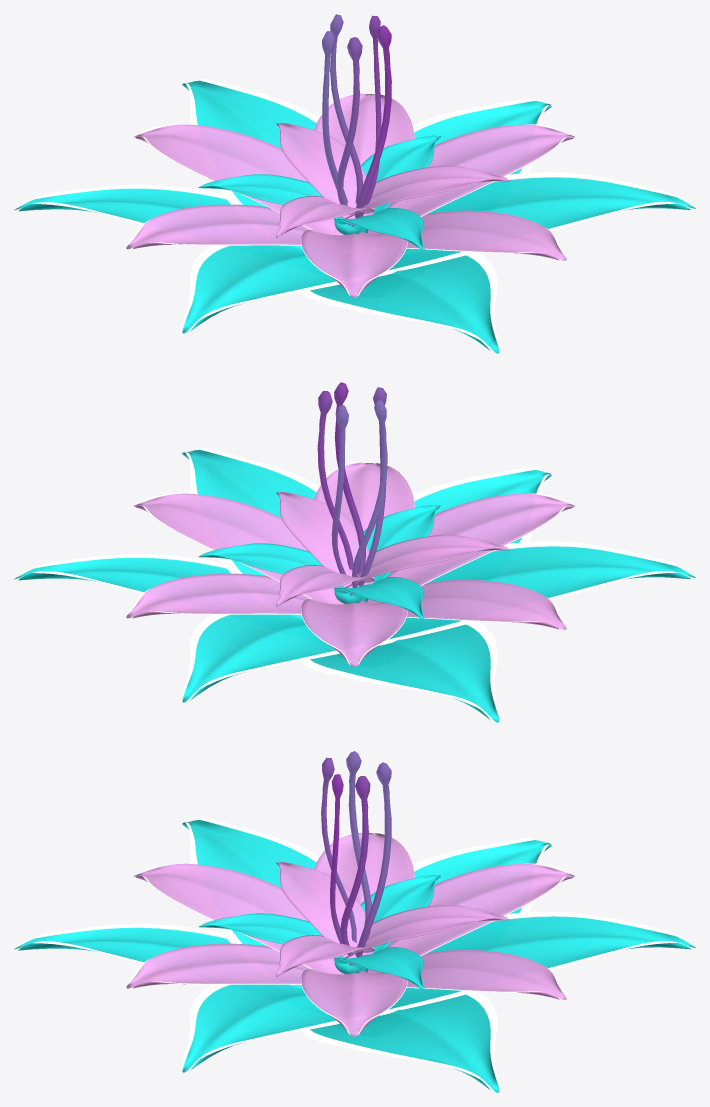
Rendered from flower.glb.
3 renders of one model, top to bottom at view 1: azimuth 30°, elevation 25°; view 2: azimuth 150°, elevation 25°; view 3: azimuth 270°, elevation 25°, orthographic.
Parts seen in each view (by area): view 1: Plane.004; view 2: Plane.004; view 3: Plane.004.
Boxes of the visible parts, x1,y1,x2,y2 form: Plane.004: (14, 14, 695, 353); Plane.004: (14, 382, 695, 722); Plane.004: (14, 751, 695, 1092).
Bounding box in the file's own units: 8.79 × 4.17 × 9.88.
Materials: 4 (1 with a texture image).
